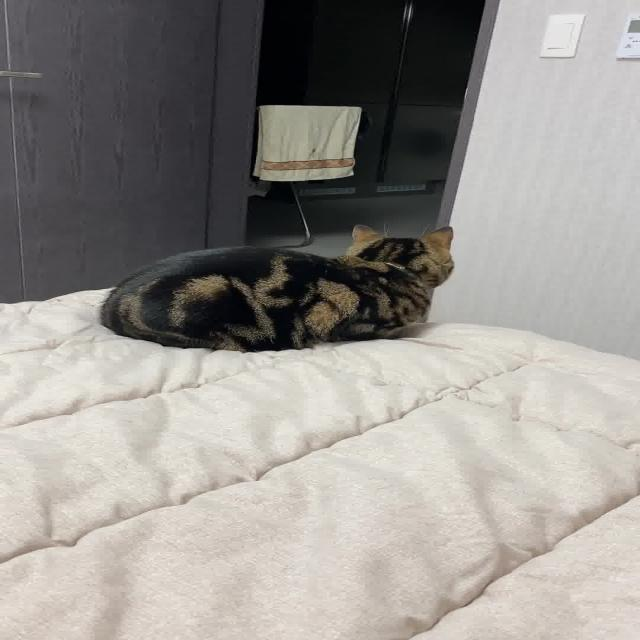cat: (105, 214, 472, 358)
